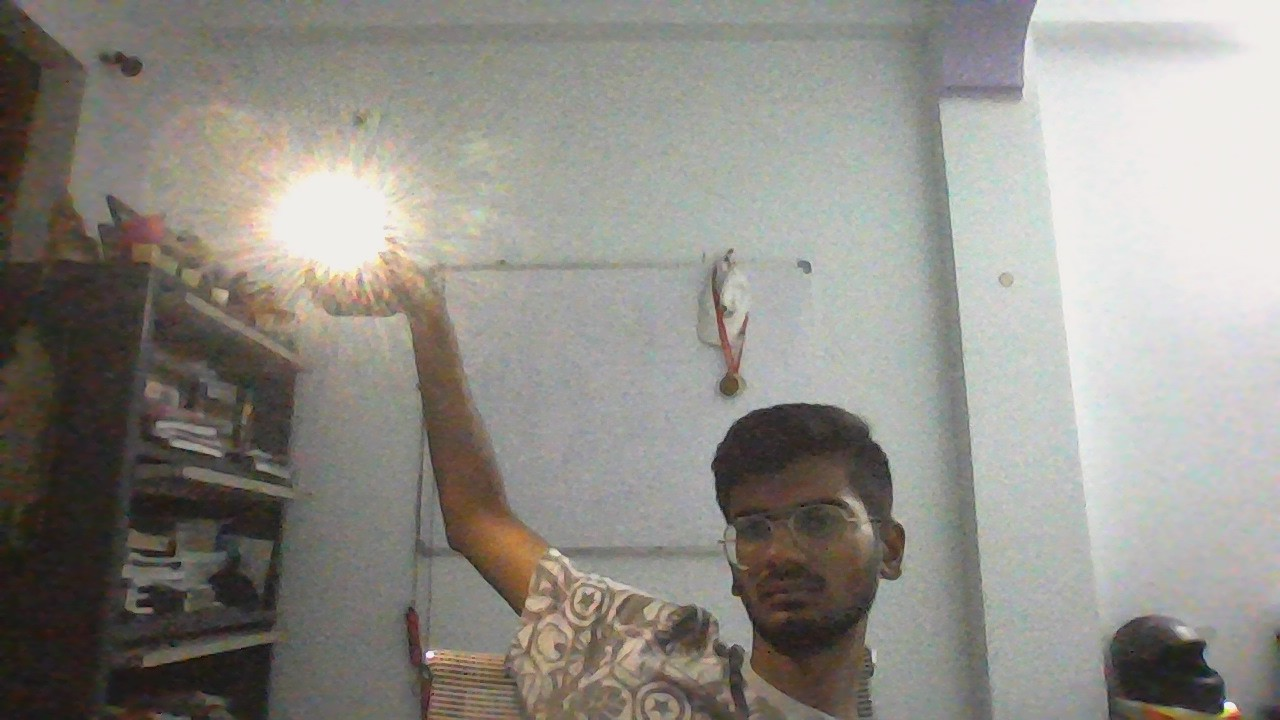Glare: (262, 172, 405, 270)
